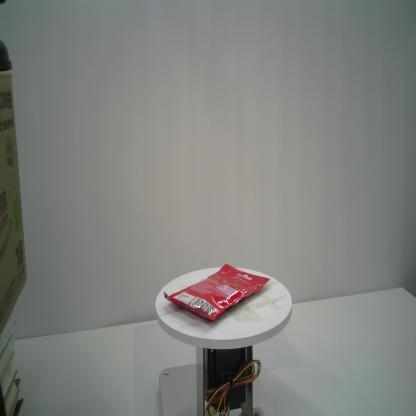Candy: (162, 262, 271, 323)
